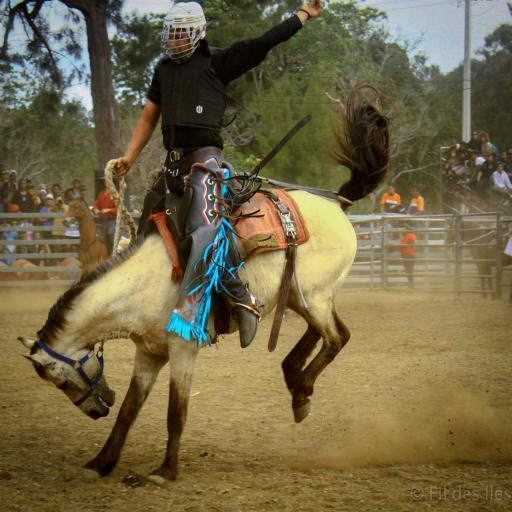horse: (17, 82, 398, 485), (62, 191, 132, 275), (442, 216, 512, 300)
